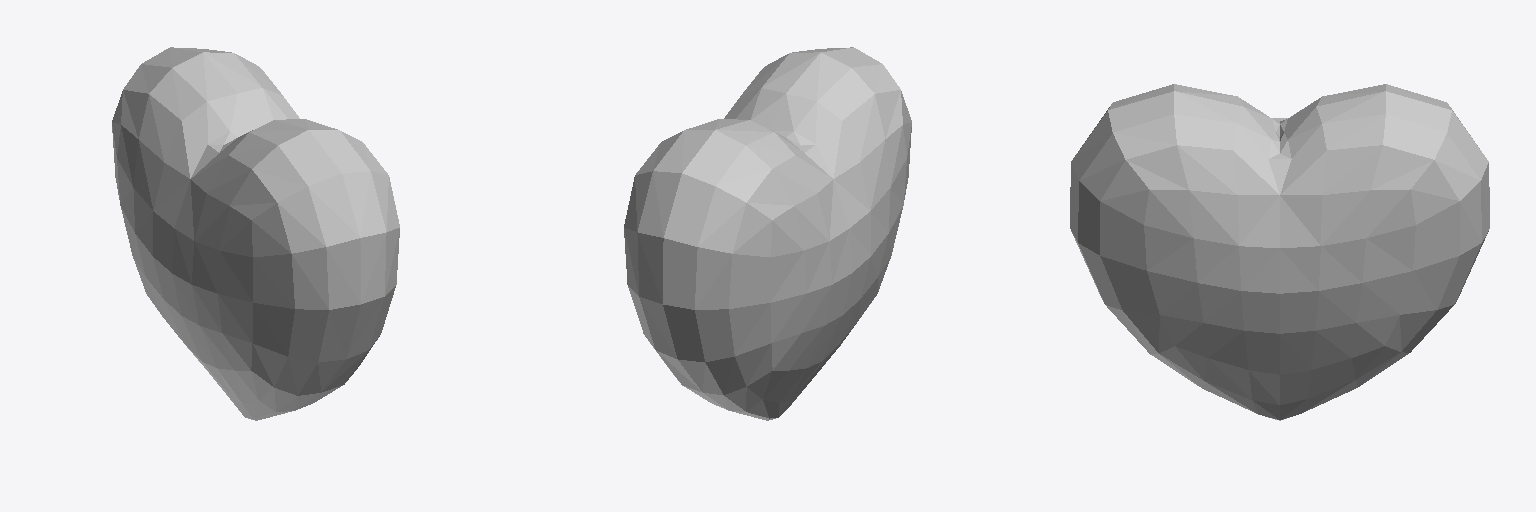
Rendered from heart.obj.
The picture shows the model from 3 angles: view 1: azimuth 30°, elevation 25°; view 2: azimuth 150°, elevation 25°; view 3: azimuth 270°, elevation 25°; orthographic projection.
Parts seen in each view (by area): view 1: 000_Vert; view 2: 000_Vert; view 3: 000_Vert.
Boxes of the visible parts, x1=… form: 000_Vert: x1=112, y1=47, x2=399, y2=420; 000_Vert: x1=624, y1=47, x2=911, y2=420; 000_Vert: x1=1070, y1=84, x2=1489, y2=420.
Size of the model in its own units: 29.77 by 55.73 by 64.46.